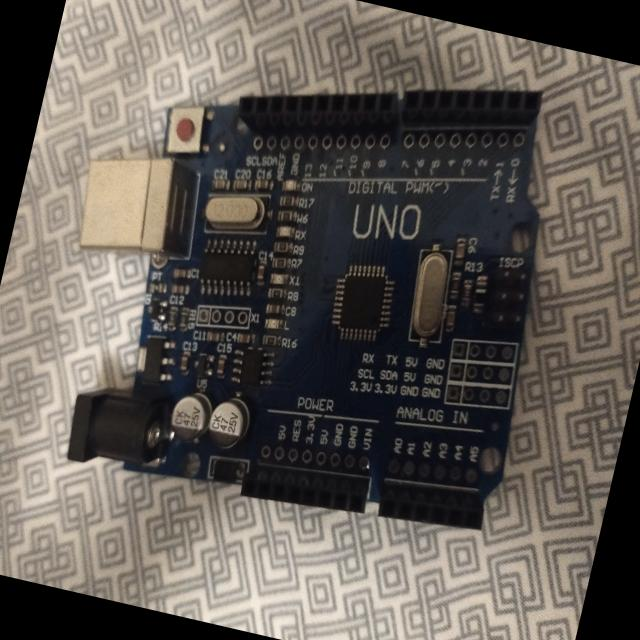arduino: (12, 0, 606, 583)
